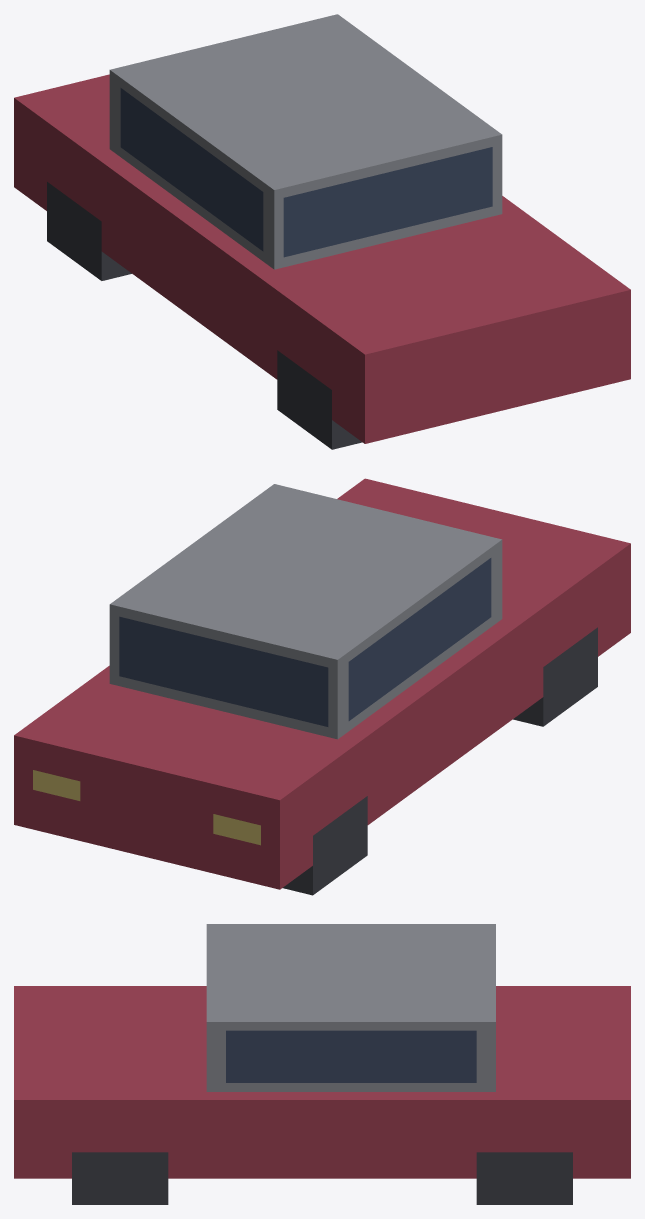
The model's file is voiture_rouge.glb.
3 views of the same model, one above another, from view 1: azimuth 30°, elevation 25°; view 2: azimuth 150°, elevation 25°; view 3: azimuth 270°, elevation 25° (orthographic). The views are drawn at different scales.
Visible parts, largest first — view 1: main; view 2: main; view 3: main.
Boxes of the visible parts, x1,y1,x2,y2 form: main: (14,14,630,449); main: (14,478,630,895); main: (14,924,630,1204).
Bounding box in the file's own units: 1.75 × 1.25 × 4.
